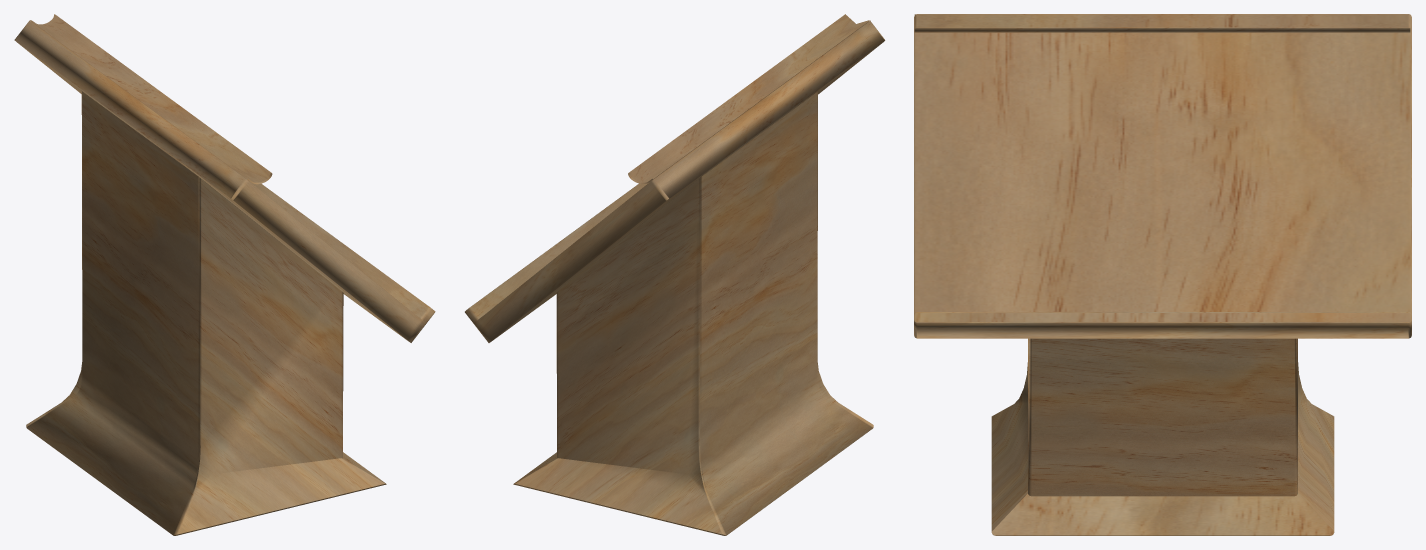
File: mesa 1.fbx
The picture shows the model from 3 angles, left to right: view 1: azimuth 30°, elevation 25°; view 2: azimuth 150°, elevation 25°; view 3: azimuth 270°, elevation 25°; orthographic projection. The views are drawn at different scales.
Visible parts, largest first — view 1: MesaFuturo; view 2: MesaFuturo; view 3: MesaFuturo.
Part boxes in pixels (left/top/right/bottom): MesaFuturo: left=14, top=14, right=435, bottom=535; MesaFuturo: left=465, top=14, right=885, bottom=535; MesaFuturo: left=914, top=14, right=1411, bottom=535.
Bounding box in the file's own units: 178 × 280 × 297.
